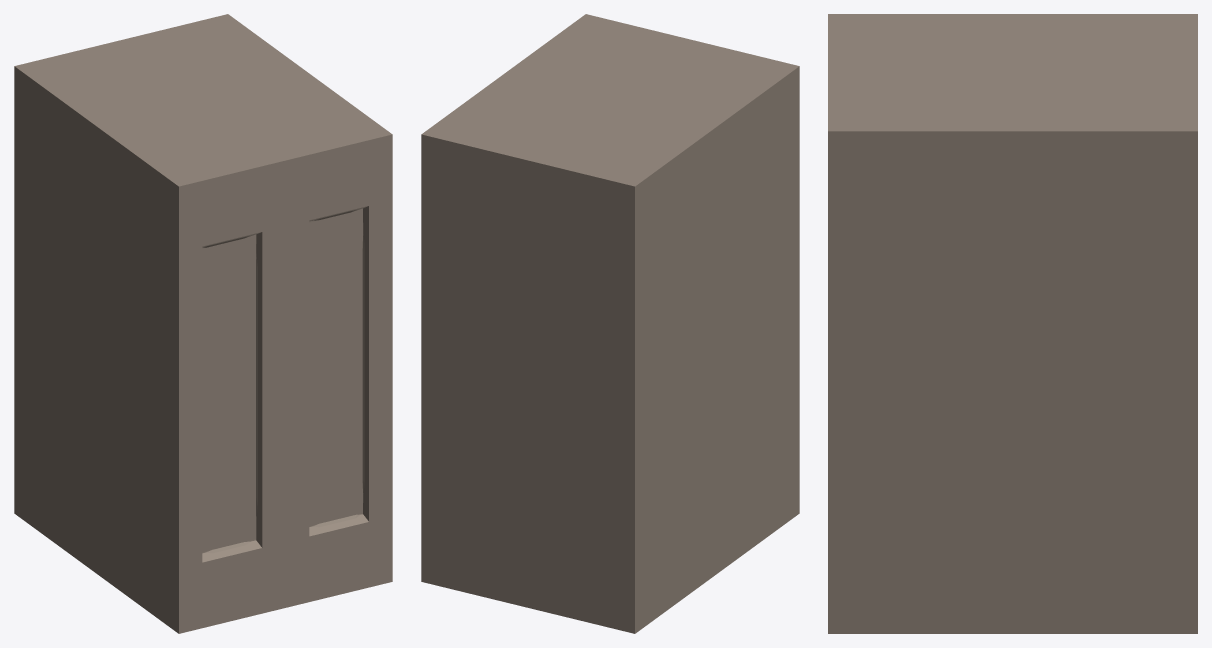
The model's file is Wall-Cabinet-18-High-12-Deep_std_001_W9in.glb.
3 renders of one model, left to right at view 1: azimuth 30°, elevation 25°; view 2: azimuth 150°, elevation 25°; view 3: azimuth 270°, elevation 25°, orthographic. The views are drawn at different scales.
Visible parts, largest first — view 1: Wall-Cabinet-18-High-12-Deep.std.001_W9in; view 2: Wall-Cabinet-18-High-12-Deep.std.001_W9in; view 3: Wall-Cabinet-18-High-12-Deep.std.001_W9in.
Part boxes in pixels (bbox=[...]): Wall-Cabinet-18-High-12-Deep.std.001_W9in: bbox=[14, 14, 392, 633]; Wall-Cabinet-18-High-12-Deep.std.001_W9in: bbox=[421, 14, 799, 633]; Wall-Cabinet-18-High-12-Deep.std.001_W9in: bbox=[828, 14, 1197, 633].
Bounding box in the file's own units: 0.2286 × 0.4572 × 0.3048.
